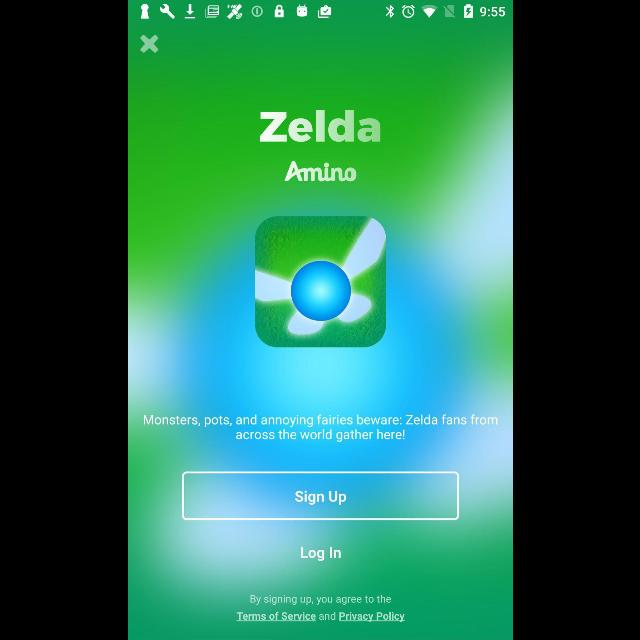icon: (140, 35, 158, 53)
image: (254, 216, 386, 348), (284, 160, 356, 182)
text: (143, 414, 497, 444), (236, 594, 404, 622), (259, 110, 379, 142), (300, 546, 340, 562)
textbutton: (182, 472, 458, 520)
uppertaskbar: (128, 1, 512, 20)
